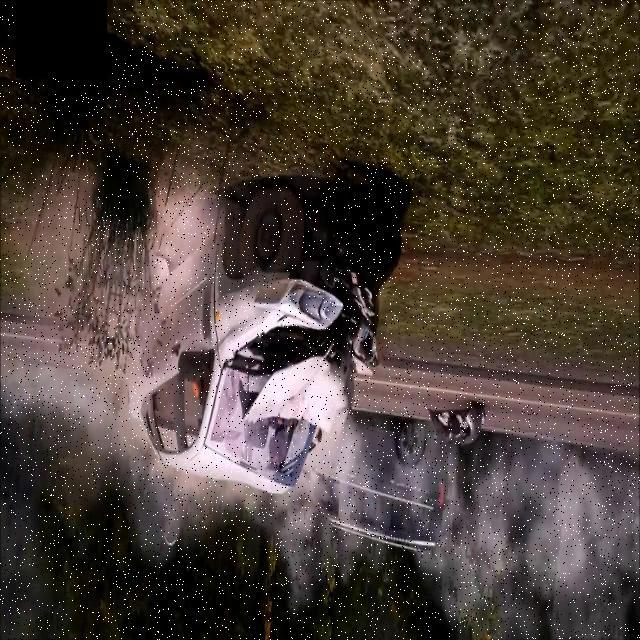severe: (121, 173, 383, 502)
